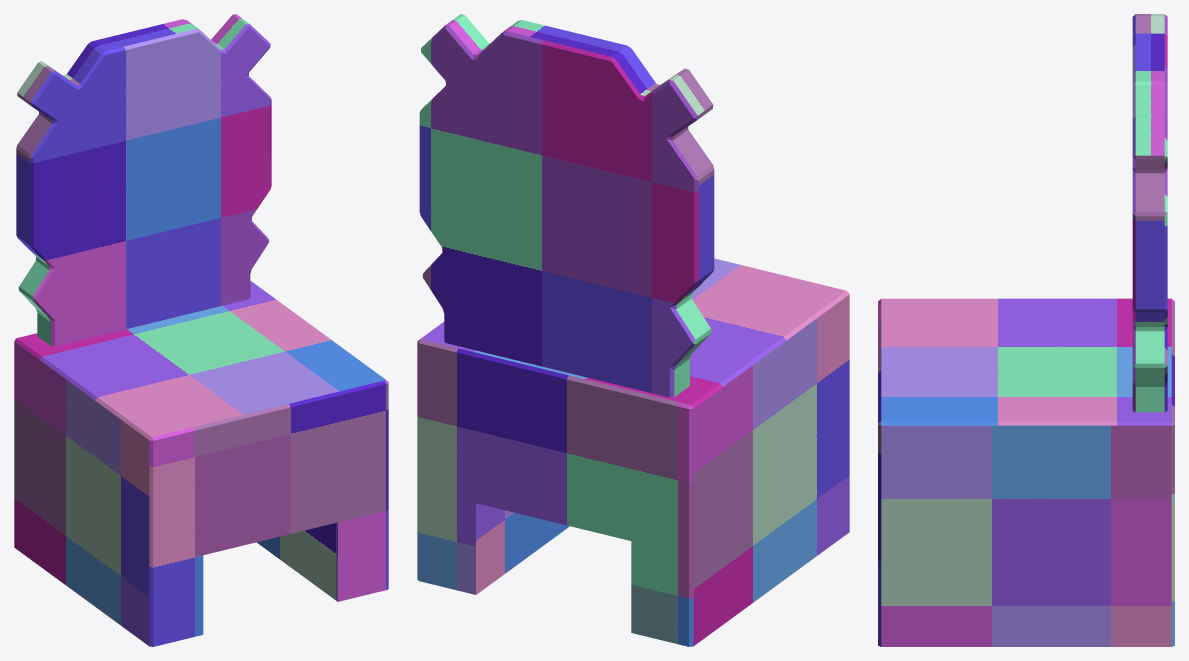
Rendered from rmk_lov_dresser_jwl.dae.
The picture shows the model from 3 angles, left to right: view 1: azimuth 30°, elevation 25°; view 2: azimuth 150°, elevation 25°; view 3: azimuth 270°, elevation 25°; orthographic projection. The views are drawn at different scales.
Parts seen in each view (by area): view 1: rmk_lov_dresser_jwl; view 2: rmk_lov_dresser_jwl; view 3: rmk_lov_dresser_jwl.
Part boxes in pixels (x1=…): rmk_lov_dresser_jwl: x1=14, y1=14, x2=388, y2=646; rmk_lov_dresser_jwl: x1=417, y1=14, x2=849, y2=646; rmk_lov_dresser_jwl: x1=878, y1=14, x2=1174, y2=646.
Size of the model in its own units: 24.26 by 47 by 24.
Materials: 2 (2 with a texture image).
